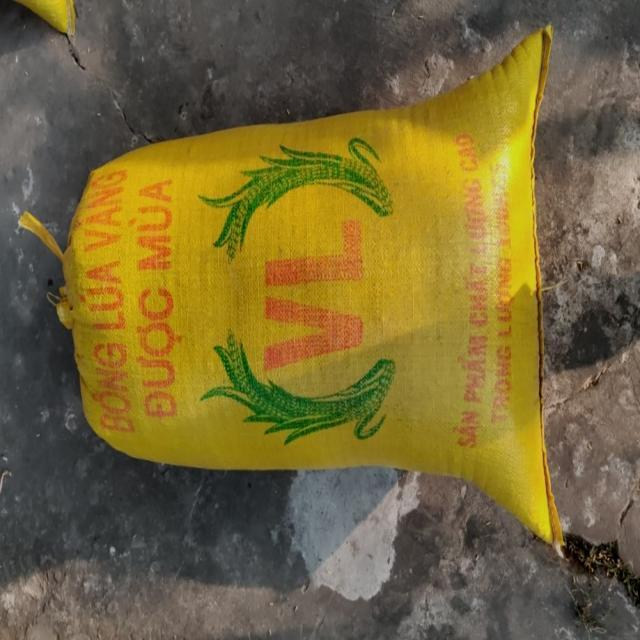gunny_bag: (19, 26, 563, 547)
